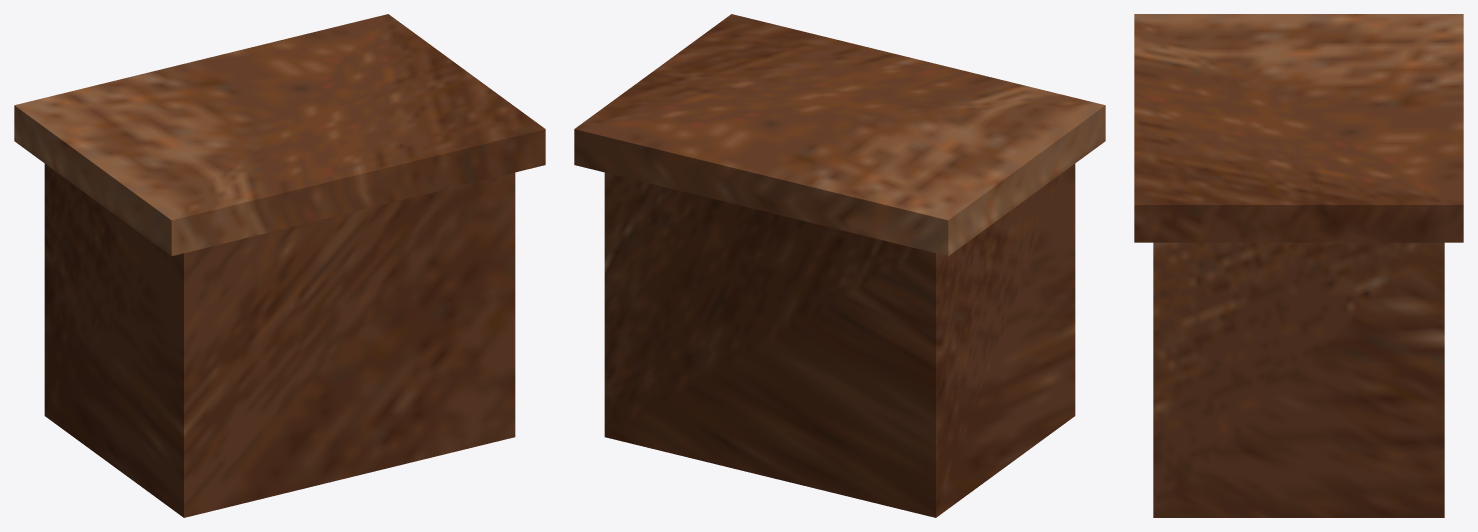
Rendered from single-cupboard.fbx.
3 renders of one model, left to right at view 1: azimuth 30°, elevation 25°; view 2: azimuth 150°, elevation 25°; view 3: azimuth 270°, elevation 25°, orthographic. The views are drawn at different scales.
Parts seen in each view (by area): view 1: Table; view 2: Table; view 3: Table.
Boxes of the visible parts, box(x1,y1,x2,y2) form: Table: box(14, 14, 545, 517); Table: box(574, 14, 1105, 517); Table: box(1134, 14, 1463, 517).
Bounding box in the file's own units: 89.99 × 71.13 × 65.53.
